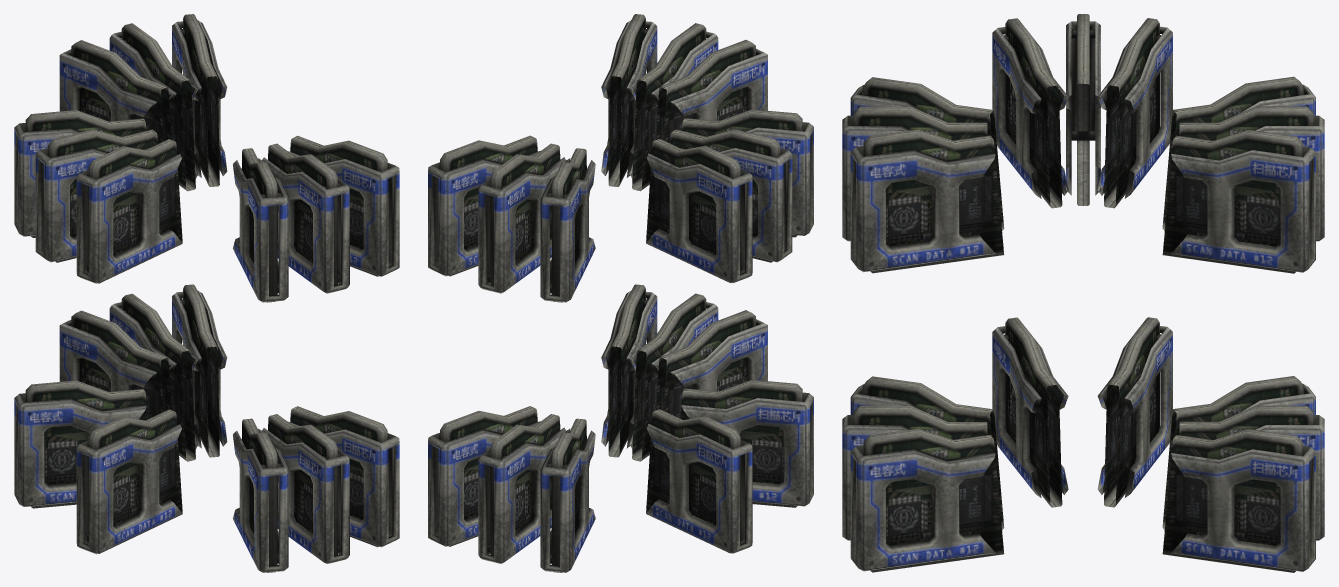
File: 02_05_computer_scan_chip_stack.dae
The picture shows the model from 3 angles, left to right: view 1: azimuth 30°, elevation 25°; view 2: azimuth 150°, elevation 25°; view 3: azimuth 270°, elevation 25°; orthographic projection. The views are drawn at different scales.
Visible parts, largest first — view 1: polySurface146; view 2: polySurface146; view 3: polySurface146.
Part boxes in pixels (bbox=[...]): polySurface146: bbox=[14, 14, 399, 572]; polySurface146: bbox=[428, 14, 813, 572]; polySurface146: bbox=[842, 14, 1324, 572].
Bounding box in the file's own units: 0.461 × 0.6622 × 0.6689.
